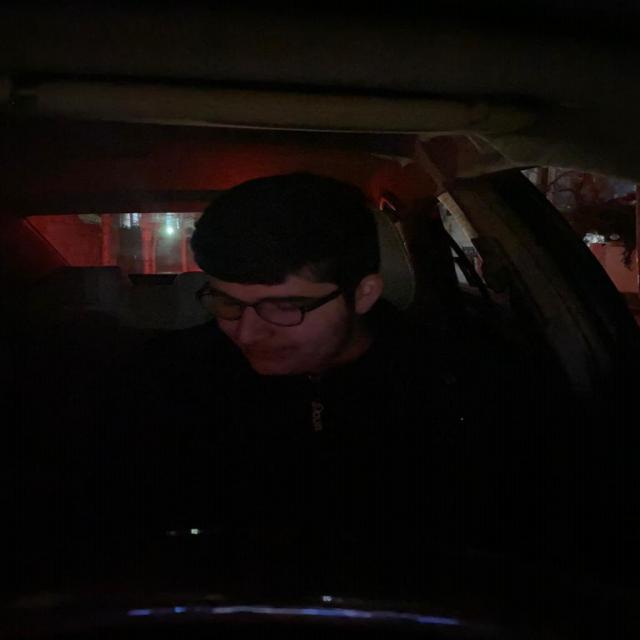drowsy: (186, 166, 390, 380)
